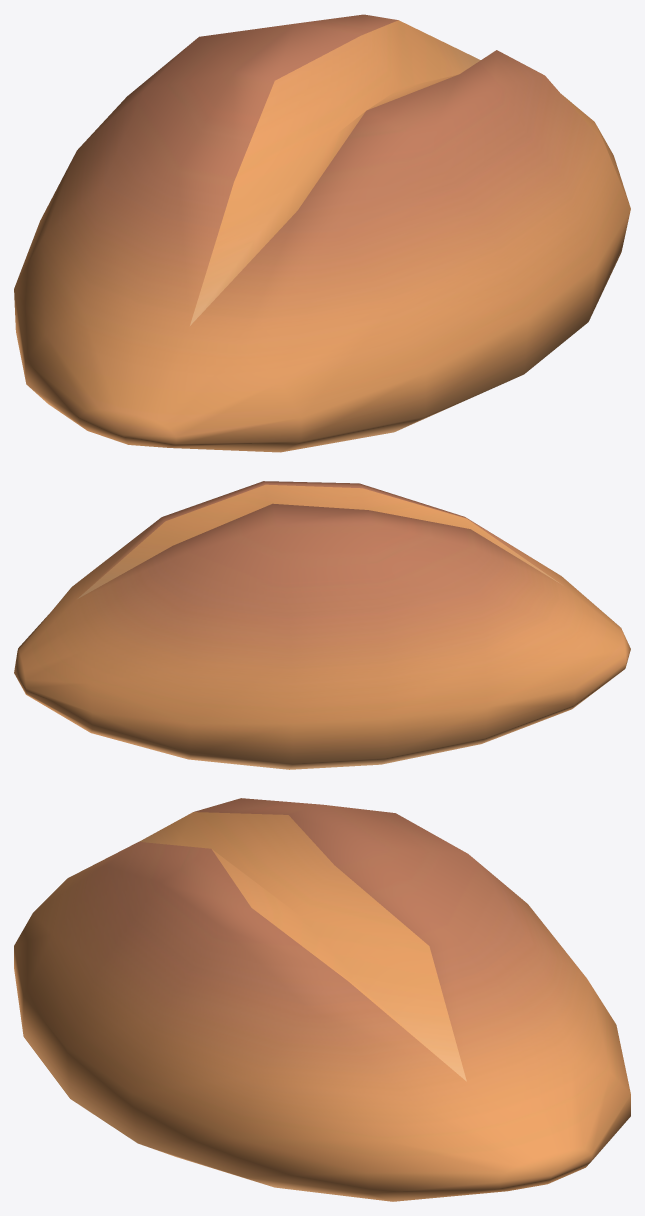
Rendered from Sourdough Bread.fbx.
The picture shows the model from 3 angles, top to bottom: view 1: azimuth 30°, elevation 25°; view 2: azimuth 150°, elevation 25°; view 3: azimuth 270°, elevation 25°; orthographic projection. The views are drawn at different scales.
Visible parts, largest first — view 1: Sourdough Bread; view 2: Sourdough Bread; view 3: Sourdough Bread.
Boxes of the visible parts, x1=… form: Sourdough Bread: x1=14, y1=14, x2=630, y2=452; Sourdough Bread: x1=14, y1=481, x2=630, y2=769; Sourdough Bread: x1=14, y1=798, x2=630, y2=1201.
Bounding box in the file's own units: 28.17 × 11.73 × 24.5.
